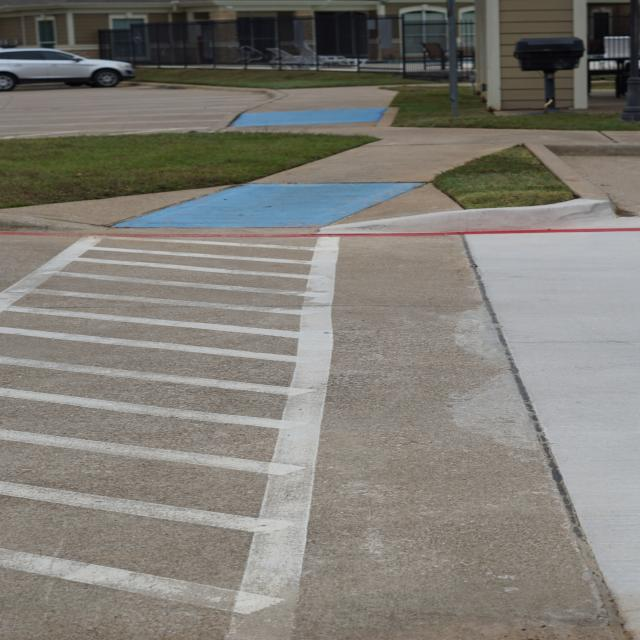Automobile: (0, 48, 135, 90)
Obstacle: (447, 0, 458, 118)
Road: (0, 232, 640, 640), (0, 86, 268, 139)
Sidewalk: (0, 86, 609, 229)
